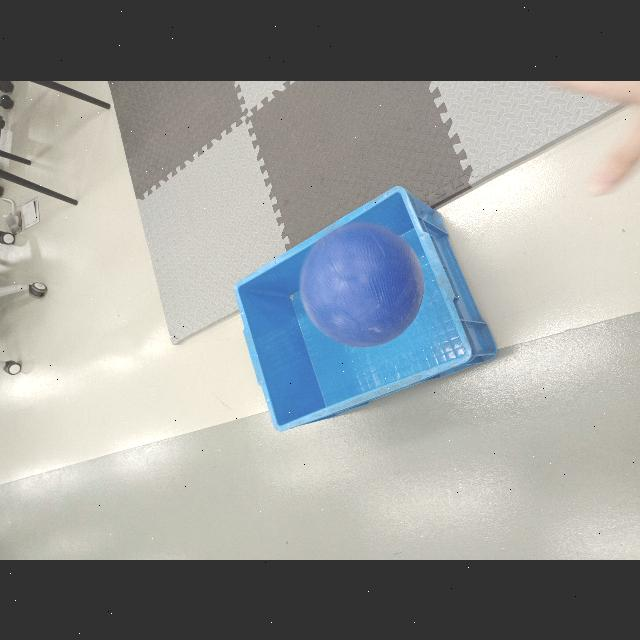B: (300, 224, 426, 346)
